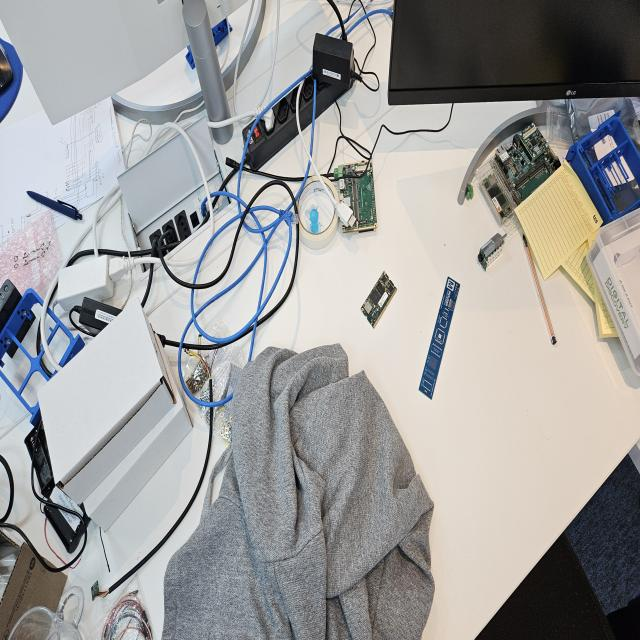som: (359, 266, 401, 328)
